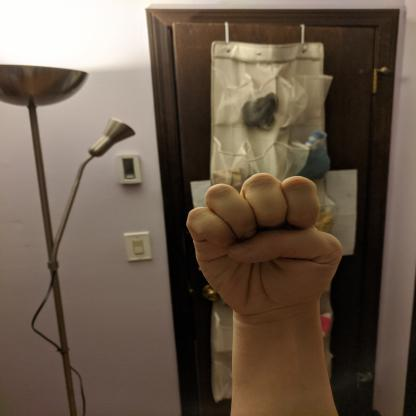E: (183, 171, 347, 319)
